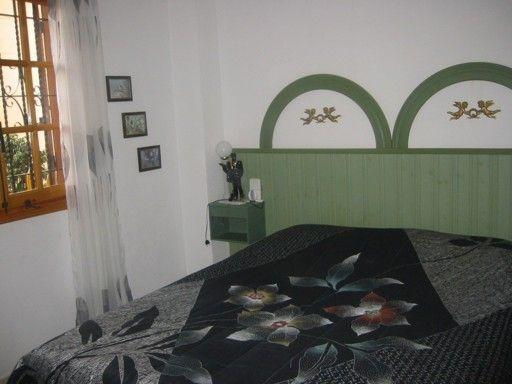Cama: (11, 152, 507, 379)
Ventana: (2, 4, 85, 215)
